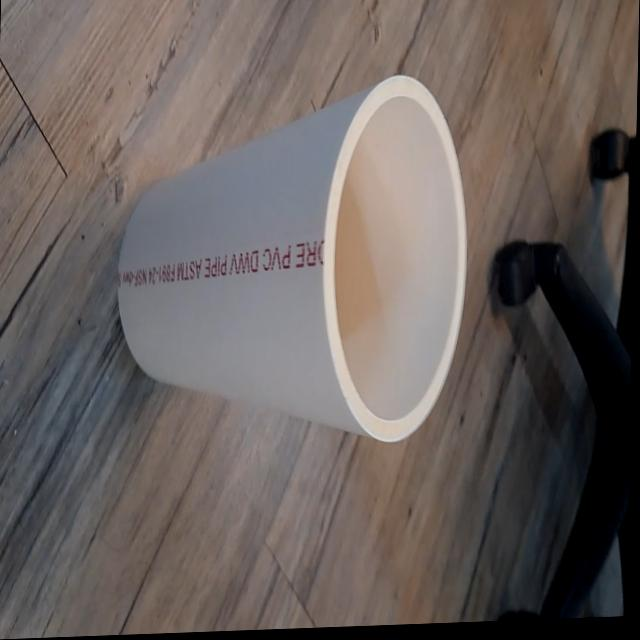CORAL: (108, 48, 484, 474)
